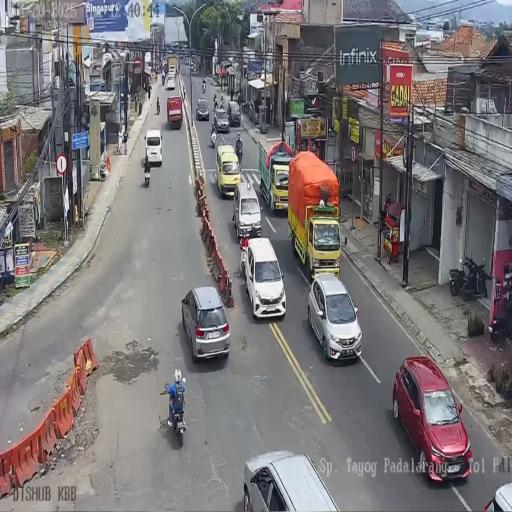3: (289, 150, 340, 278), (259, 137, 291, 212), (166, 96, 182, 128), (162, 57, 168, 70)
car: (394, 357, 472, 479), (243, 450, 342, 511), (307, 272, 361, 361), (180, 286, 230, 362), (243, 236, 285, 320), (233, 178, 260, 239), (216, 142, 240, 198), (481, 480, 512, 511), (145, 130, 162, 168), (213, 105, 230, 133), (226, 100, 240, 128), (196, 96, 210, 122), (166, 68, 176, 90), (185, 57, 190, 65)
truck: (164, 384, 186, 445), (461, 254, 489, 301), (488, 307, 510, 342), (449, 267, 466, 296), (144, 164, 150, 187), (210, 129, 216, 148), (219, 94, 224, 108), (213, 94, 218, 108), (202, 79, 206, 93), (190, 63, 195, 73), (162, 72, 165, 85)
